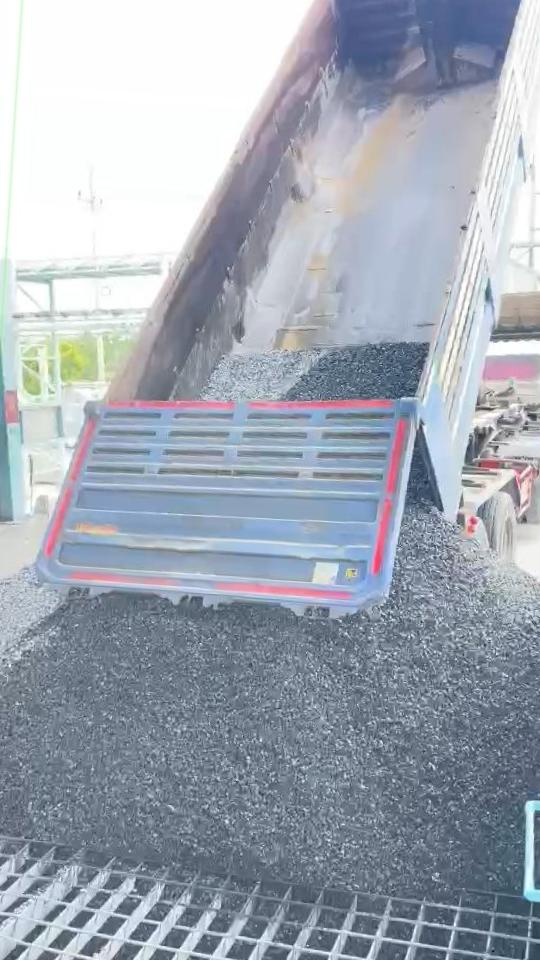gravel: (0, 459, 540, 894), (197, 343, 428, 400), (0, 567, 60, 685), (535, 811, 540, 891)
